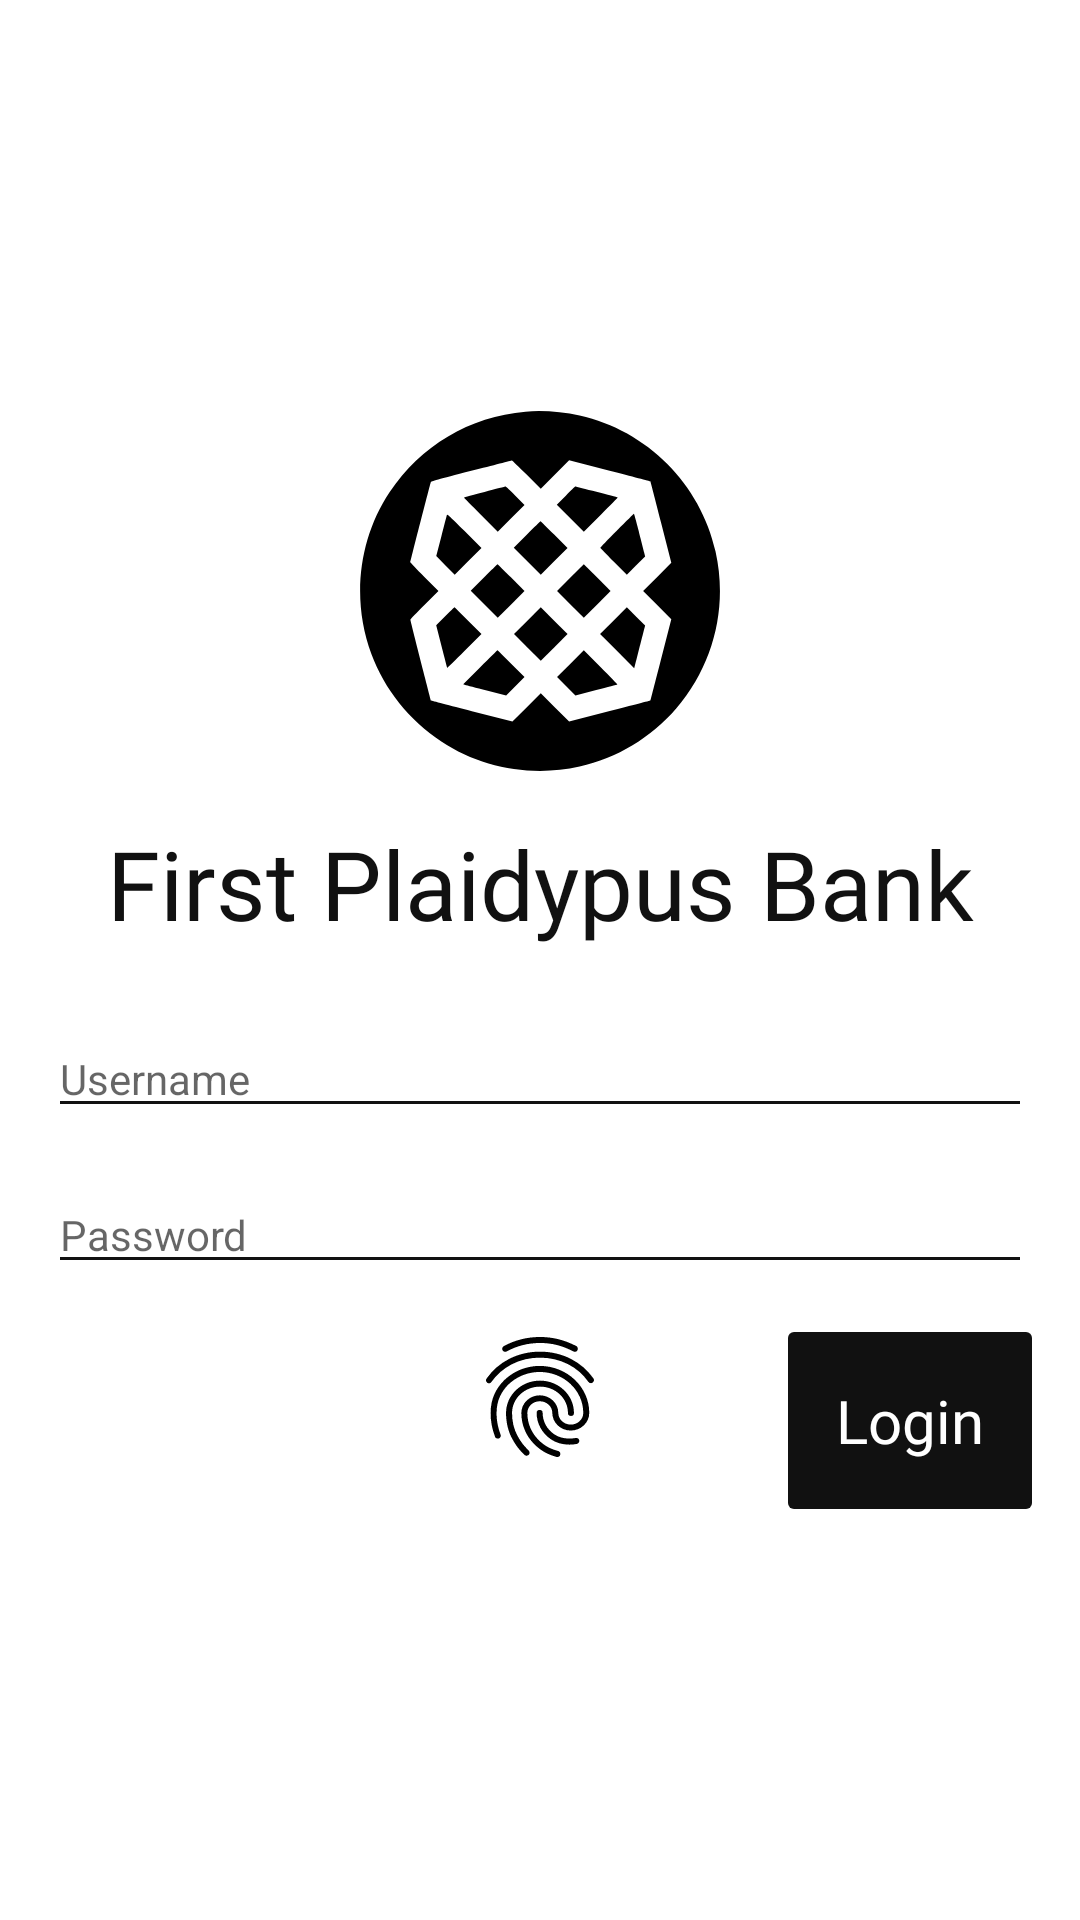

Locate icon controls on the screen. Image size 1080px×1920px, boxes as rect(x1, y1, x2, y2).
fingerprint: rect(486, 1337, 594, 1457)
